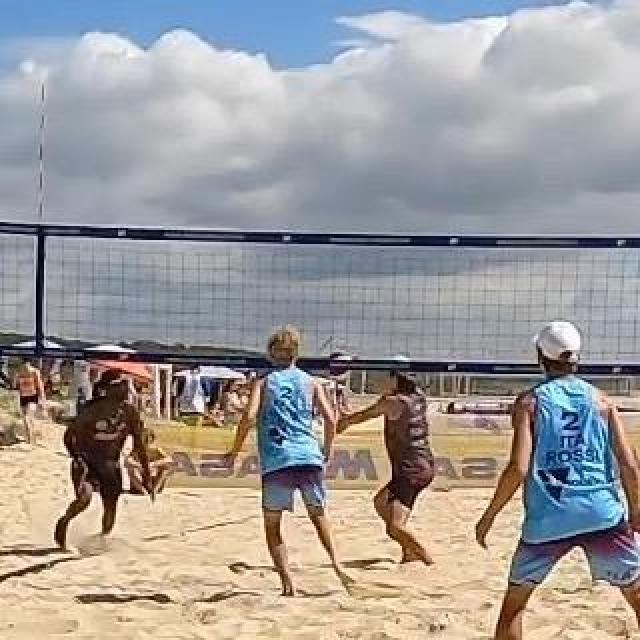volleyball: (326, 350, 356, 380)
